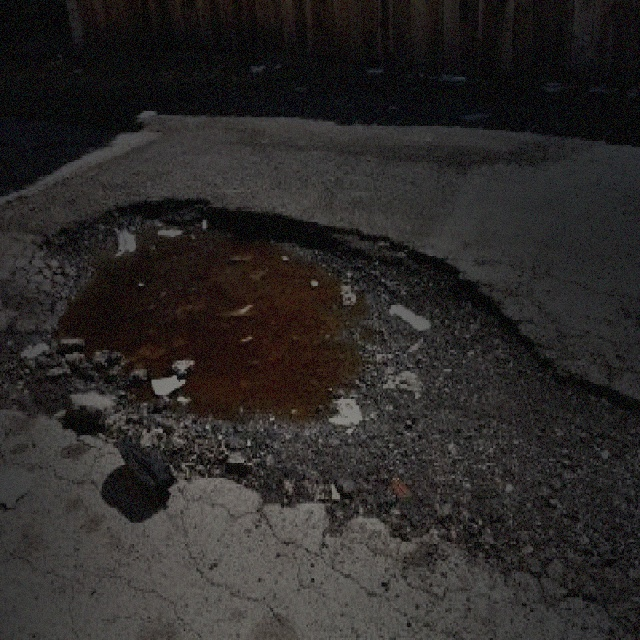pothole: (22, 190, 562, 599)
